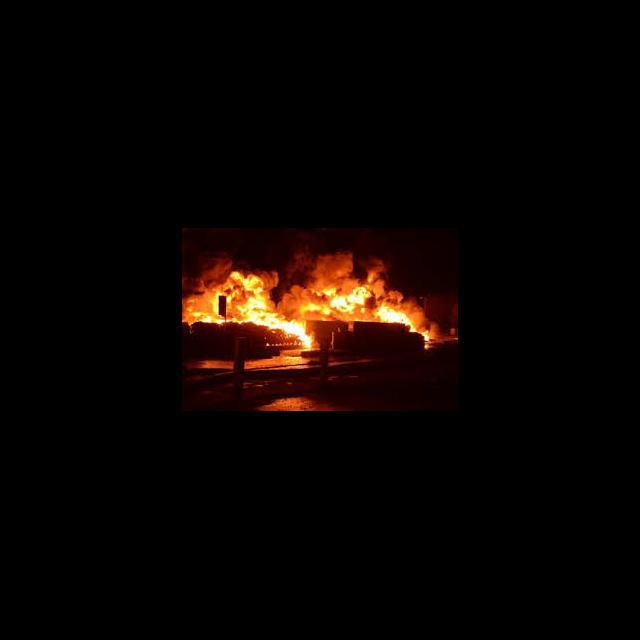Fire: (304, 285, 372, 321), (250, 314, 312, 349), (228, 270, 270, 319), (374, 296, 420, 334), (182, 298, 215, 325), (216, 320, 248, 326), (423, 330, 429, 350)
Smoke: (289, 234, 389, 285), (183, 248, 228, 292), (272, 270, 300, 310)
